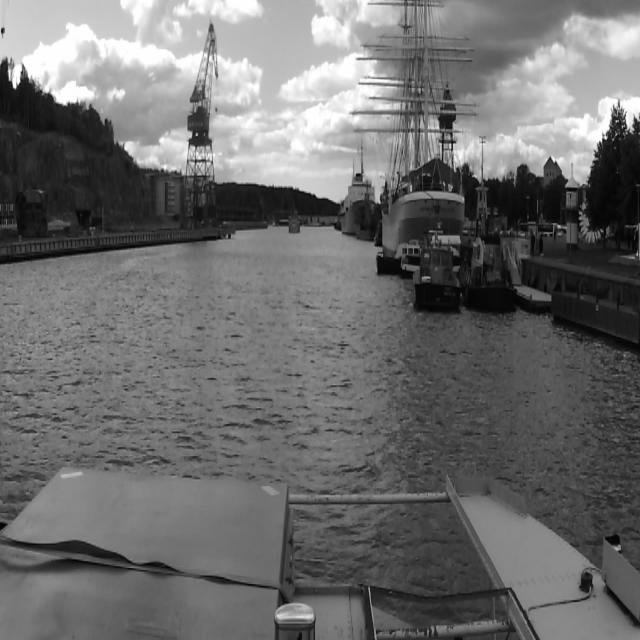ship: (382, 0, 462, 224), (467, 221, 523, 320), (414, 229, 463, 314), (337, 170, 378, 236), (356, 193, 378, 240), (289, 210, 301, 234)
